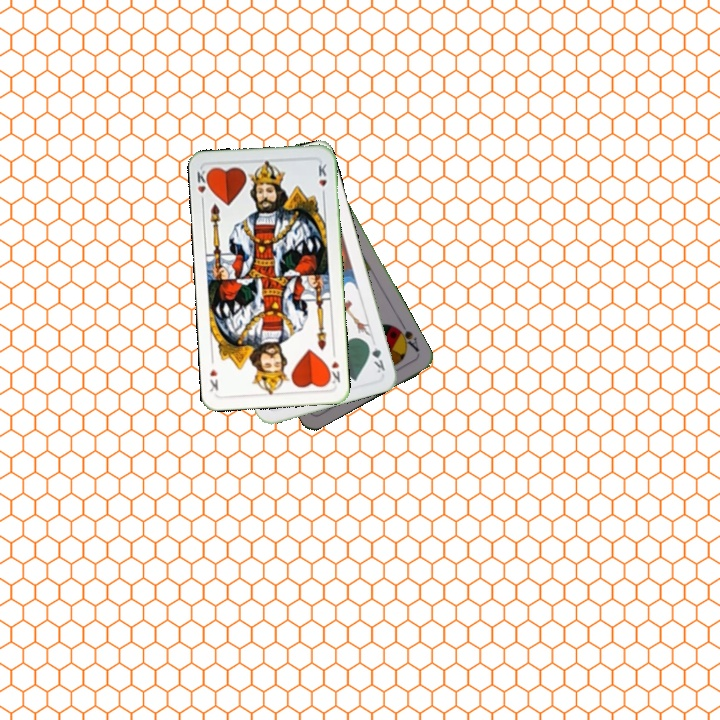GK: (363, 338, 388, 375)
HK: (193, 165, 213, 206), (324, 357, 343, 386)
SA: (391, 318, 422, 355)
